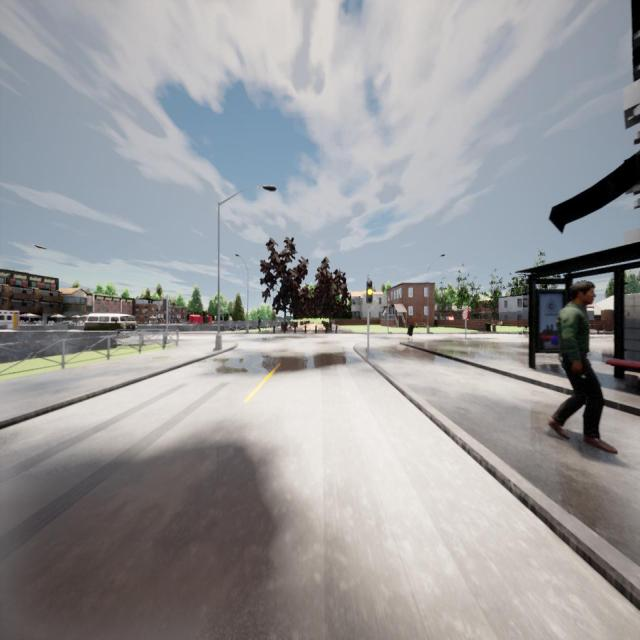Pedestrian: (547, 281, 617, 453), (256, 316, 262, 333)
Traffic_Signs: (462, 310, 469, 320)
Vehicle: (84, 314, 137, 338)
traffic_light: (366, 281, 373, 303), (163, 299, 166, 311)
